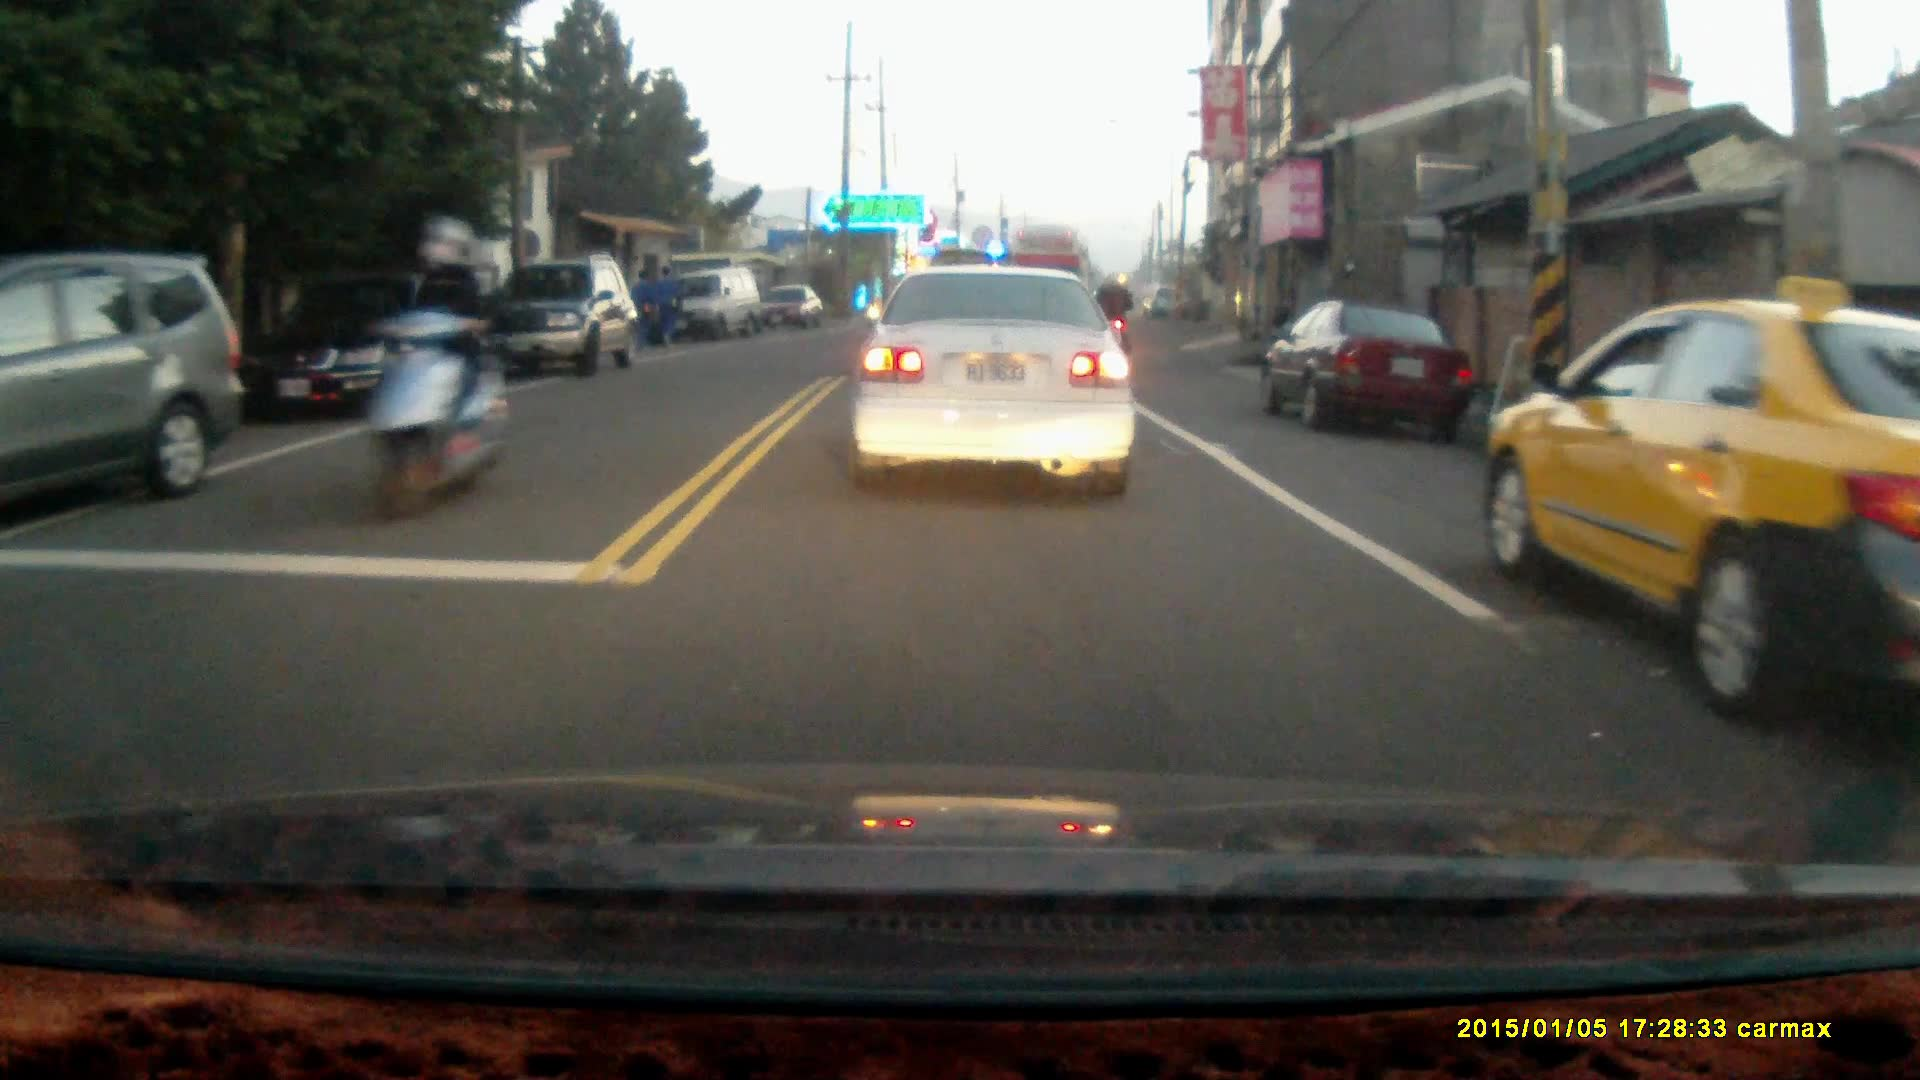pedestrian: (649, 263, 676, 350), (628, 265, 655, 347)
rider: (353, 214, 511, 529), (1085, 272, 1132, 375)
vehicle: (1484, 302, 1920, 749), (852, 264, 1134, 504), (1, 261, 250, 531), (243, 270, 498, 418), (1260, 300, 1478, 437), (471, 256, 642, 381), (655, 270, 762, 344), (743, 285, 824, 336)
